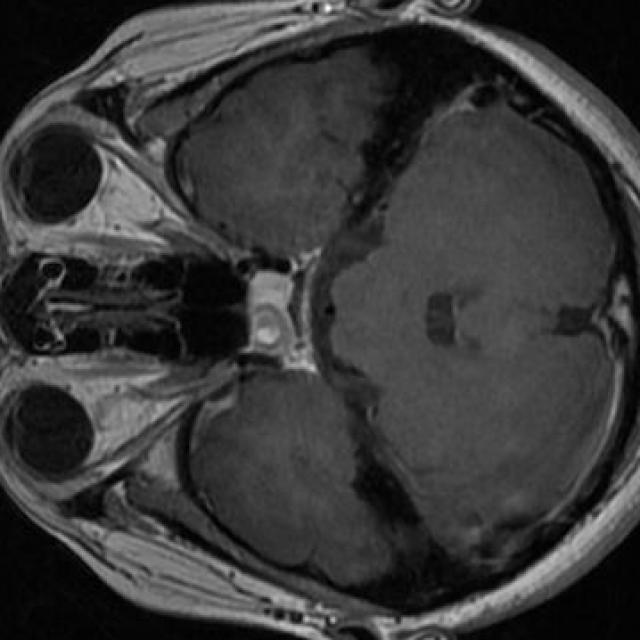pituitary: (248, 269, 308, 365)
